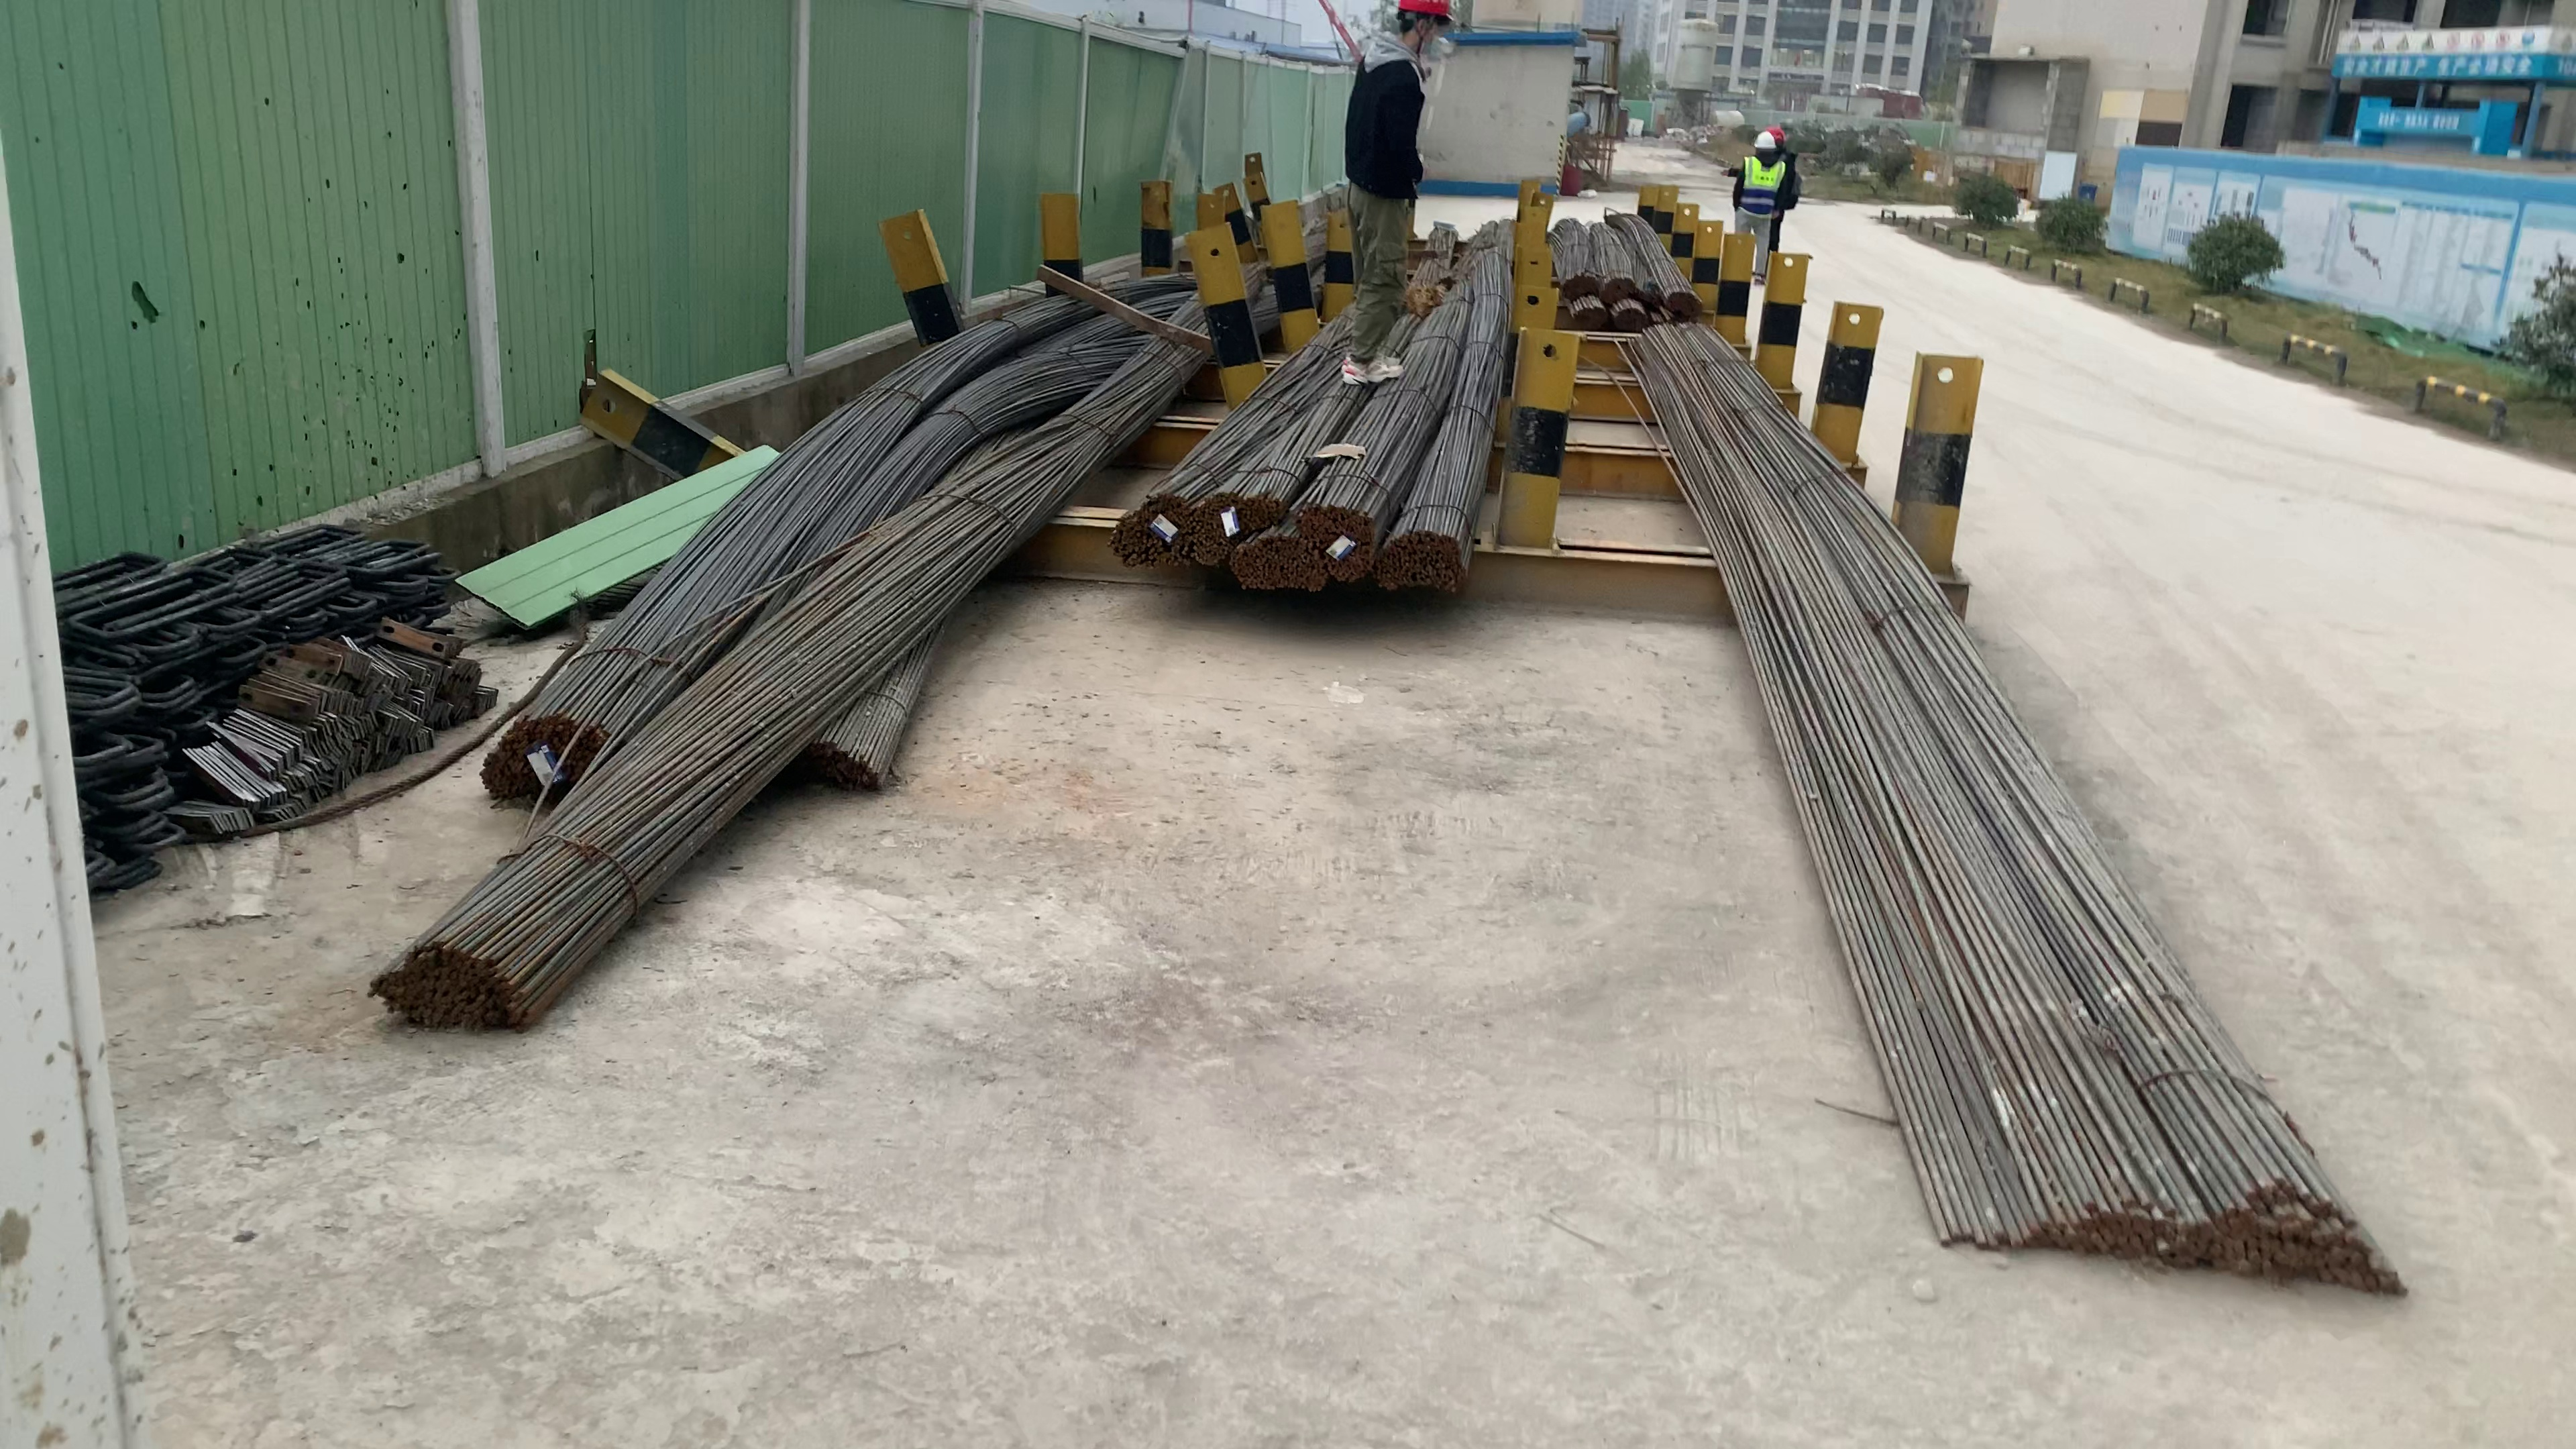rebar: (1932, 1169, 2413, 1300), (375, 932, 536, 1028), (483, 711, 610, 791), (1201, 485, 1279, 568), (793, 731, 886, 796), (1109, 495, 1196, 566), (1376, 533, 1467, 594), (1304, 501, 1375, 573), (1235, 540, 1323, 589), (1555, 260, 1592, 294), (1665, 280, 1702, 313), (1603, 267, 1633, 299), (1619, 303, 1651, 326), (1578, 304, 1610, 326)
